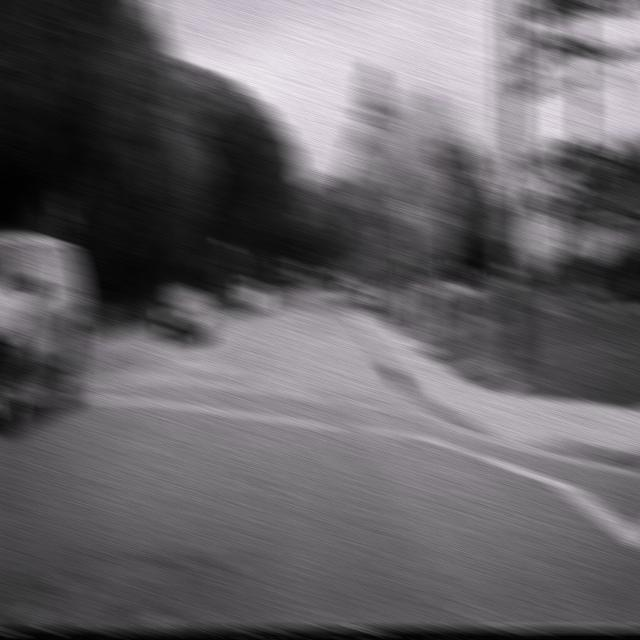pedestrianCrossing: (478, 130, 531, 216)
